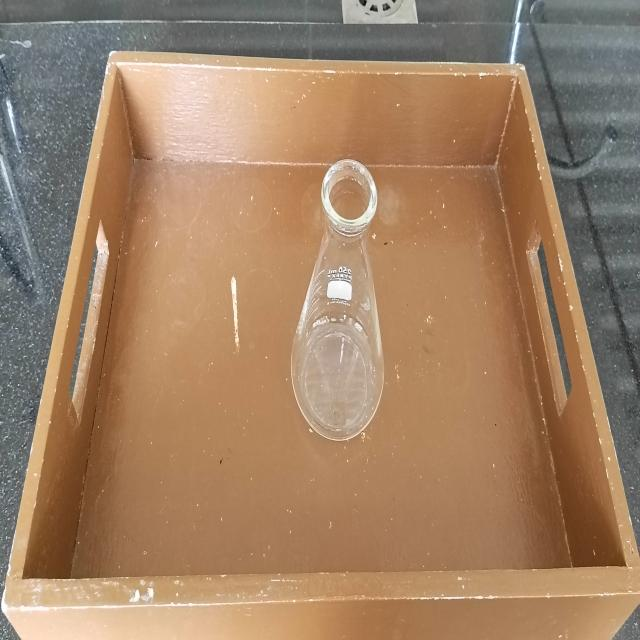erlenmeyer_flask: (286, 150, 389, 445)
